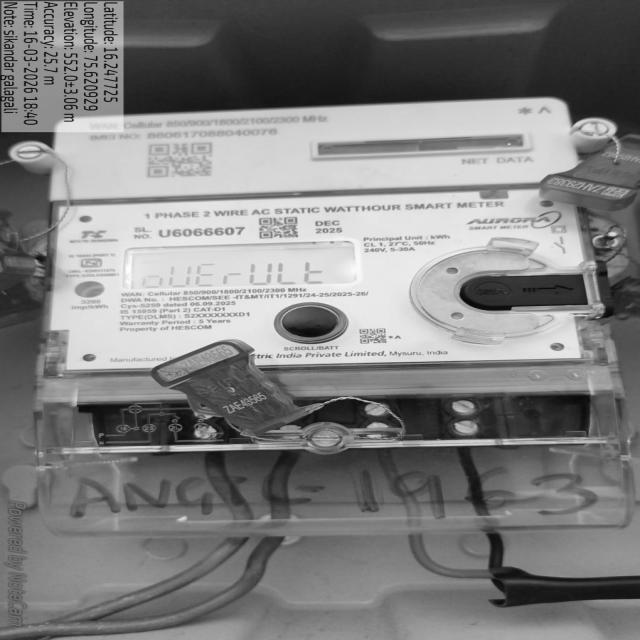meter: (52, 97, 594, 362)
